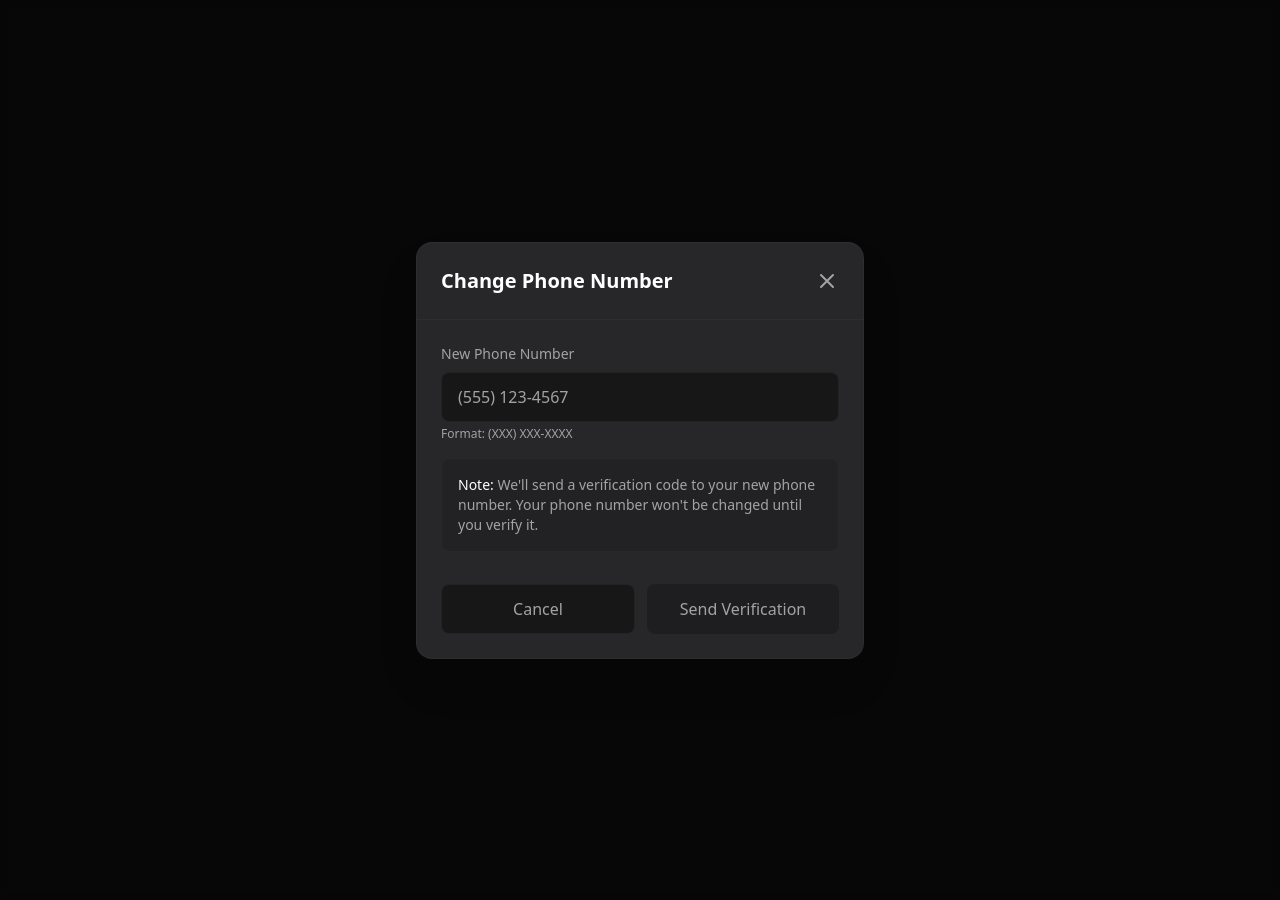
Test: formats input as (XXX) XXX-XXXX and strips non-digits
type raw digits more than needed and some symbols
Type "123-45x67890!!" into the field with placeholder "(555) 123-4567". click: (640,396)
box: 441,372 -> 839,422
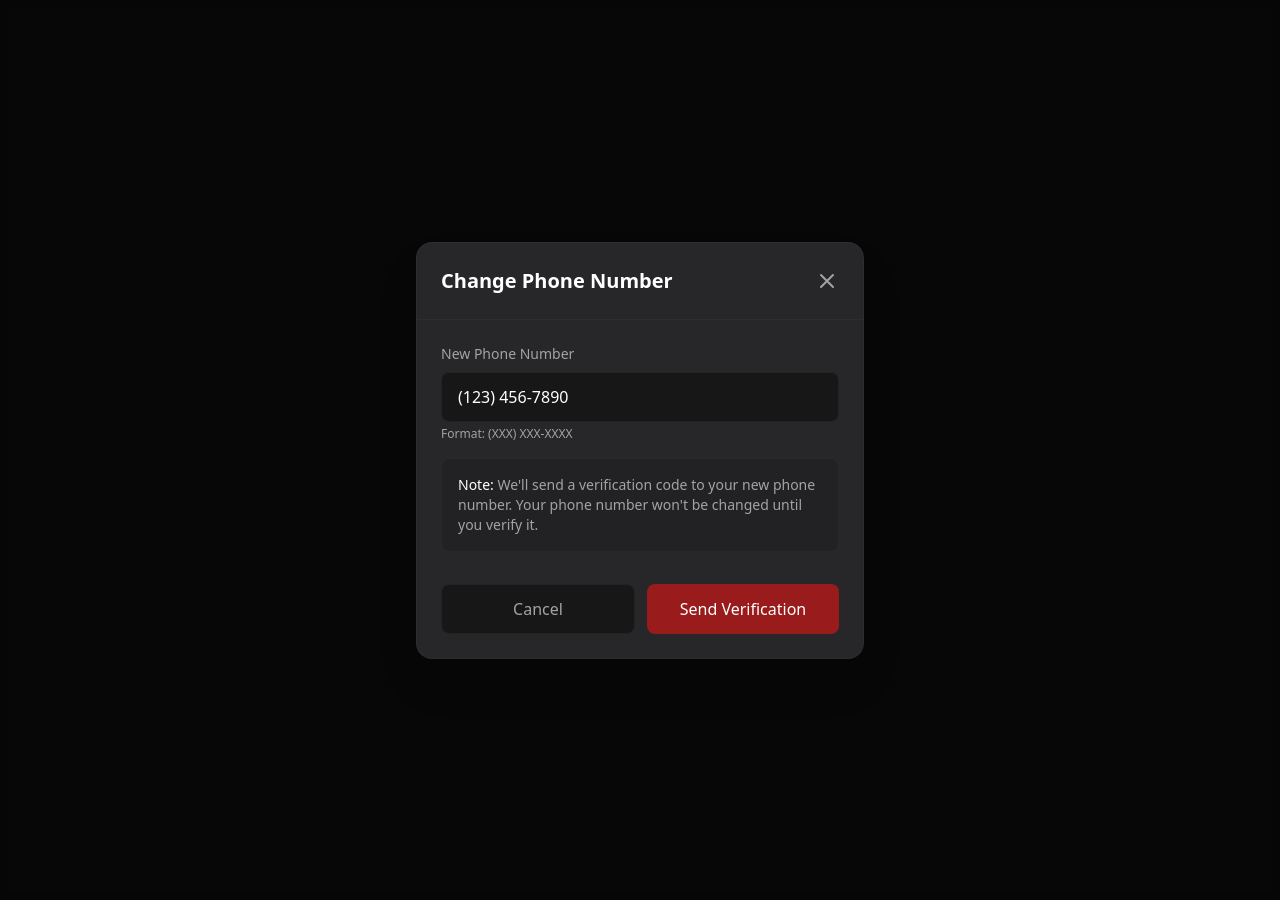
Result: the field with placeholder "(555) 123-4567" holds "(123) 456-7890" at 441,372 -> 839,422
